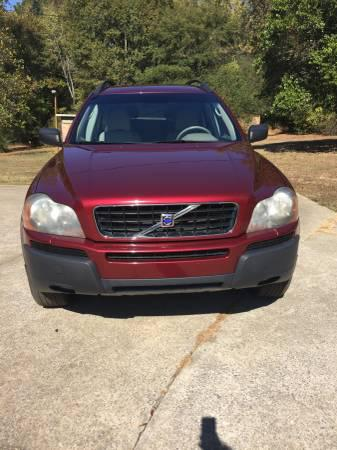volvo: (13, 66, 296, 315)
